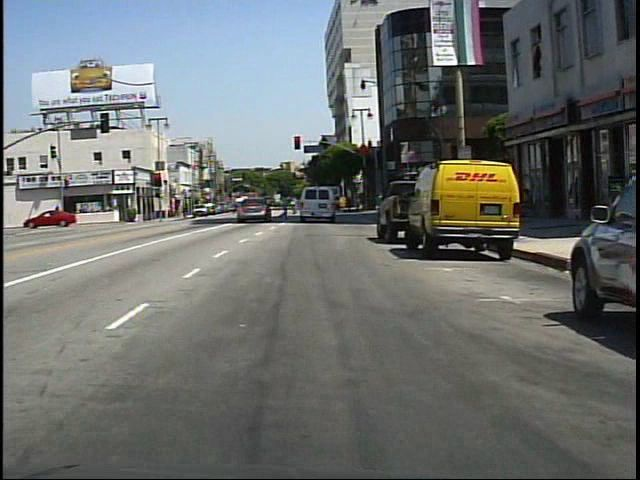person: (515, 182, 539, 225), (276, 191, 294, 223), (51, 203, 67, 231), (288, 196, 299, 218)
